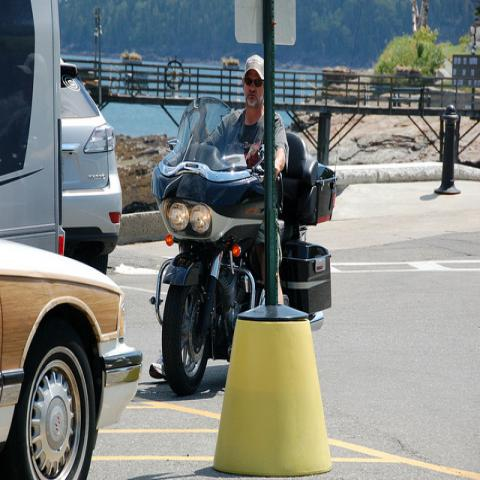car: (0, 238, 143, 480), (61, 57, 121, 276)
motorcycle: (150, 96, 336, 396)
